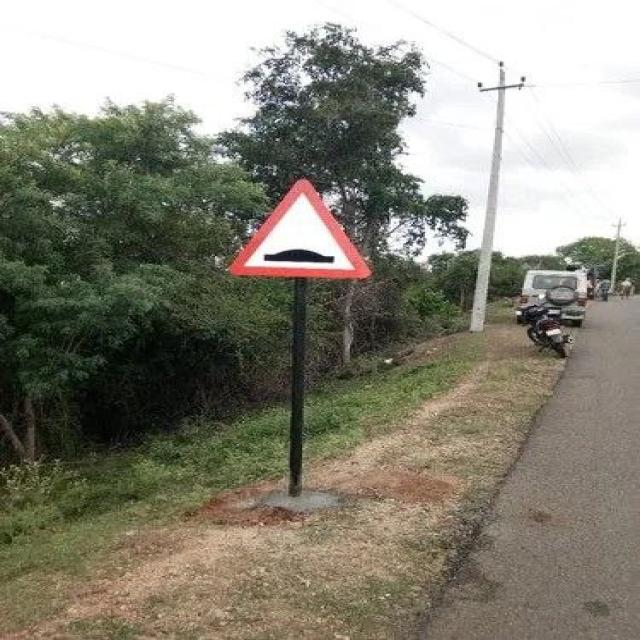Bump: (226, 182, 374, 277)
